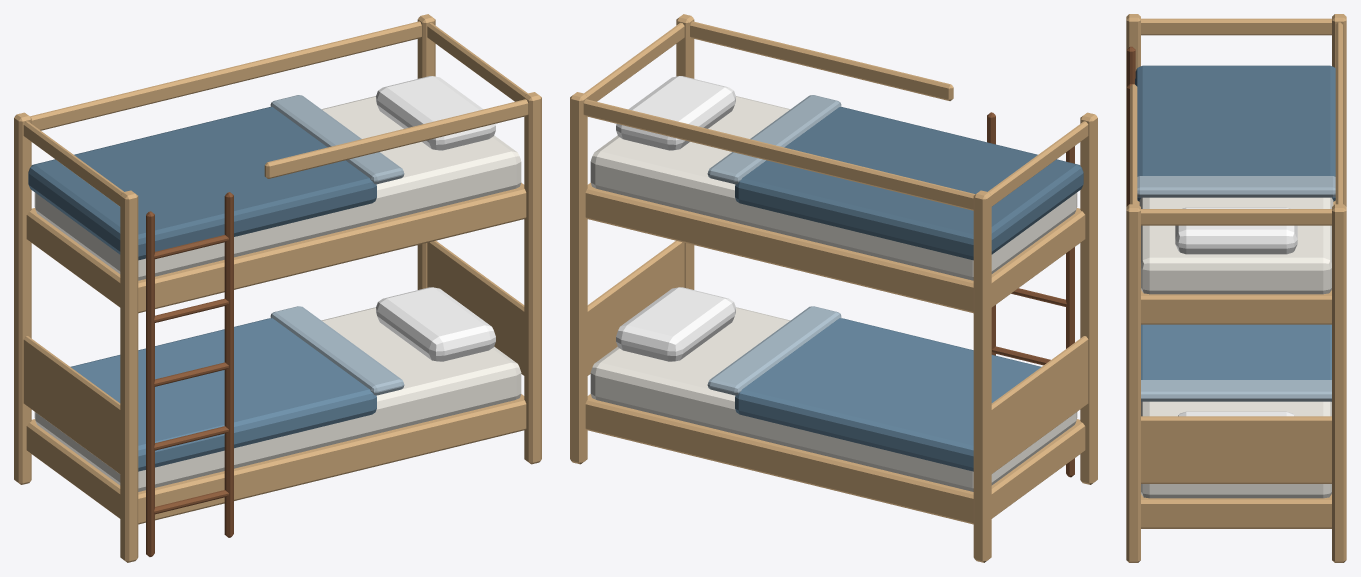
The model's file is bunk_bed.glb.
3 views of the same model, side by side, from view 1: azimuth 30°, elevation 25°; view 2: azimuth 150°, elevation 25°; view 3: azimuth 270°, elevation 25° (orthographic). The views are drawn at different scales.
Parts seen in each view (by area): view 1: bunk_bed_Body; view 2: bunk_bed_Body; view 3: bunk_bed_Body.
Boxes of the visible parts, <box> form: bunk_bed_Body: <box>14,14,541,562</box>; bunk_bed_Body: <box>570,14,1097,562</box>; bunk_bed_Body: <box>1126,14,1346,562</box>.
Size of the model in its own units: 1.9 by 1.6 by 0.9.
